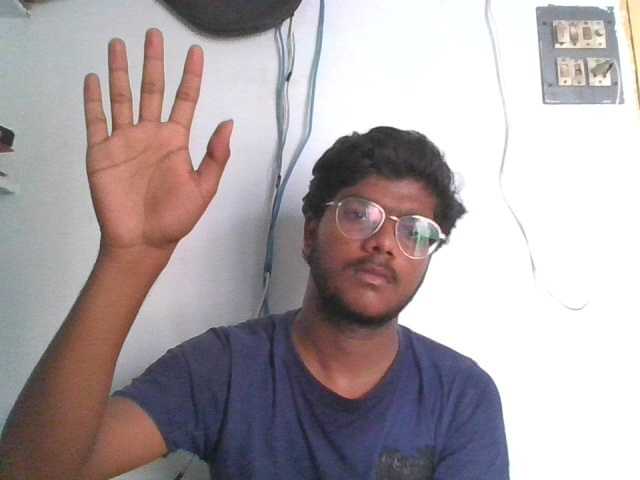Hello: (82, 24, 235, 243)
